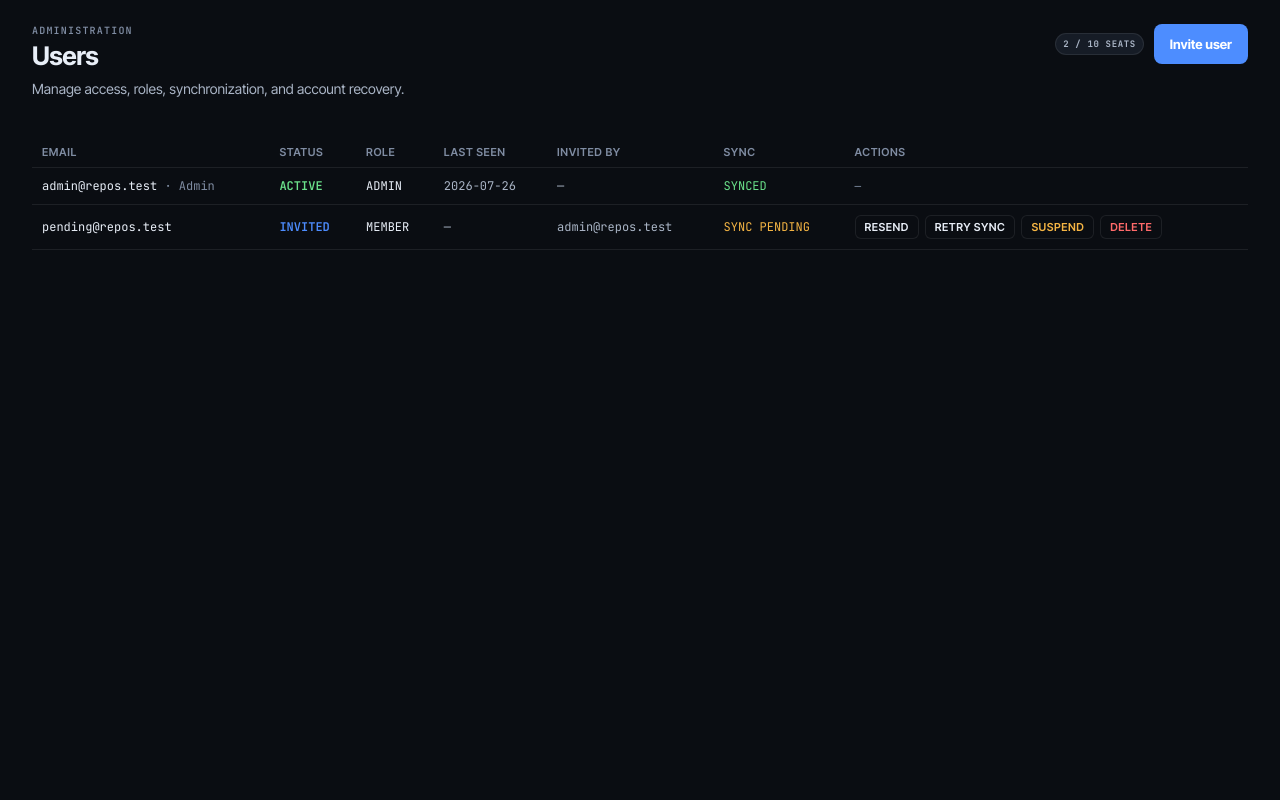
Test case: SettingsUsersPage › clears the invite form between openings
The width and height of the screenshot is (1280, 800).
Step 1. Click the button "Invite user" → (1201, 44), box [1154, 24, 1248, 64]
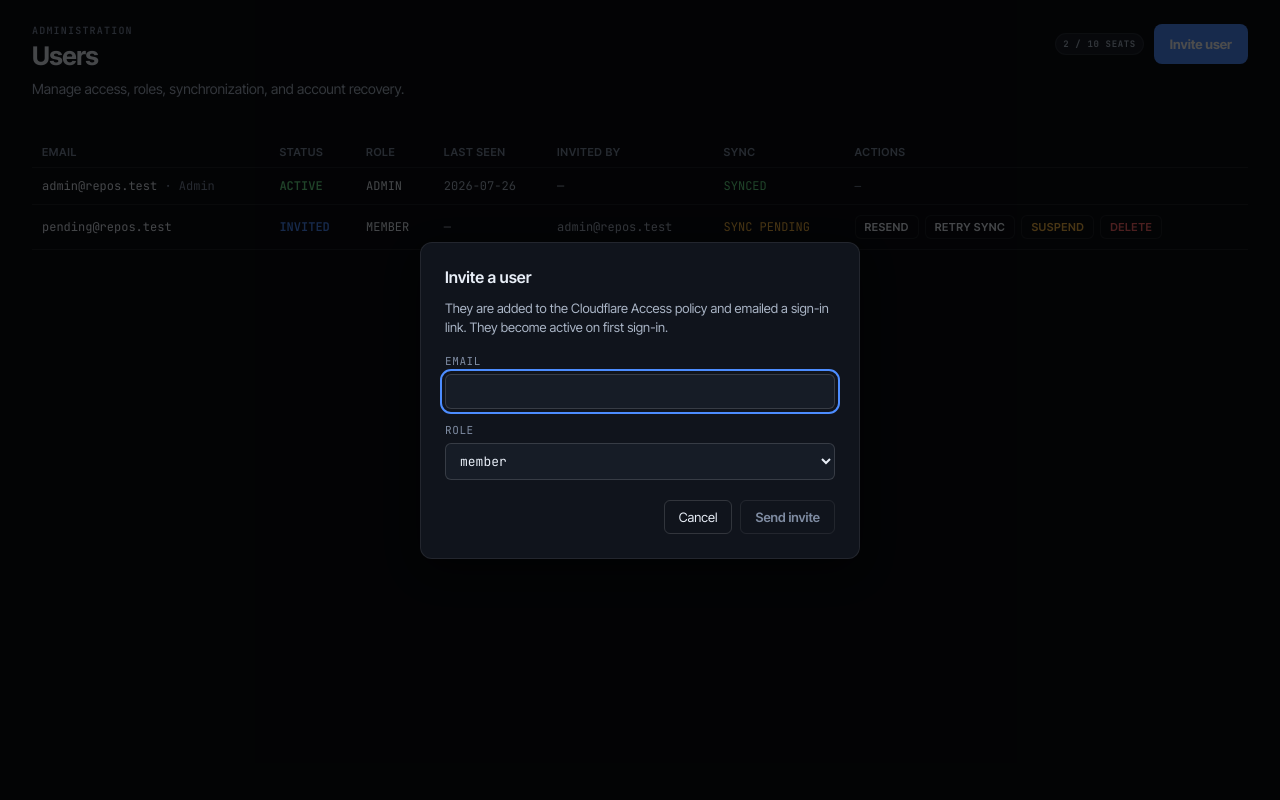
Step 2. Type "first@repos.test" into the field labelled "Email" → (640, 391), box [445, 374, 835, 408]
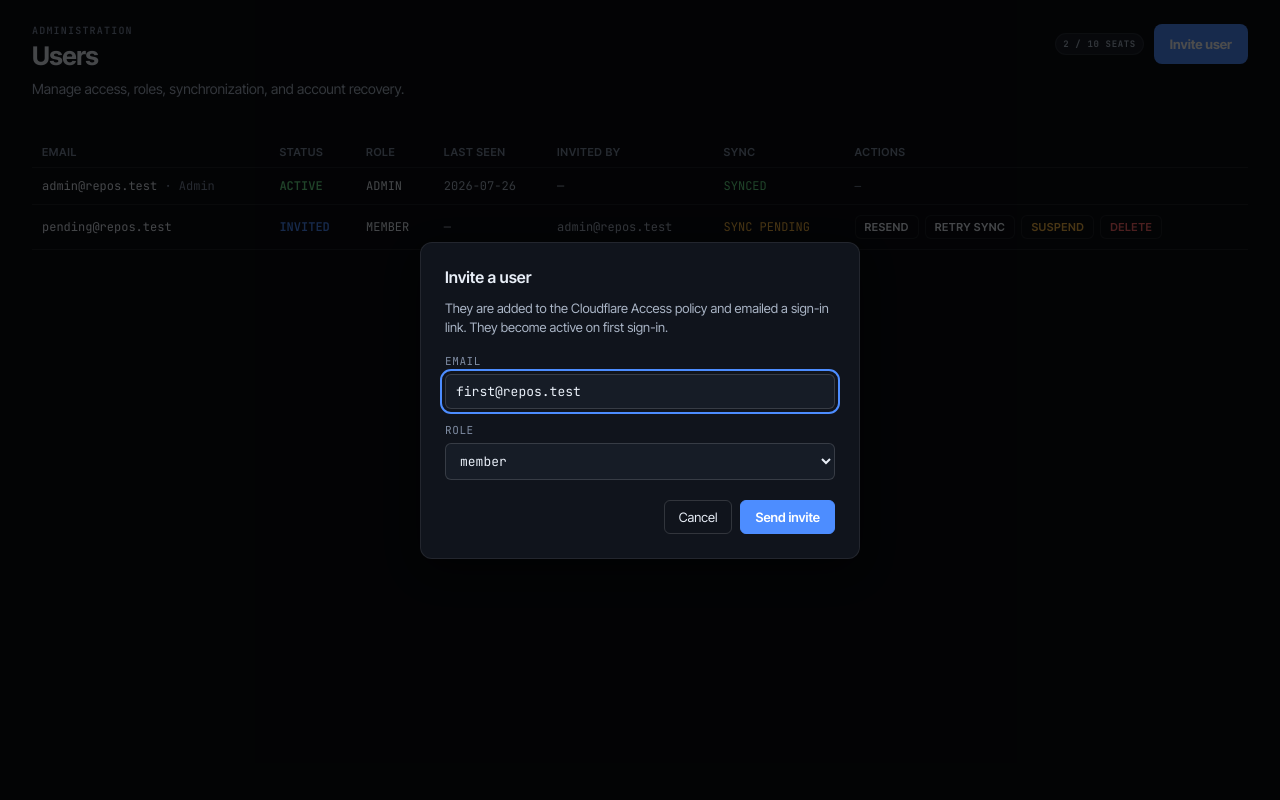
Step 3. Select "admin" in the dropdown labelled "Role" → (640, 461), box [445, 442, 835, 480]
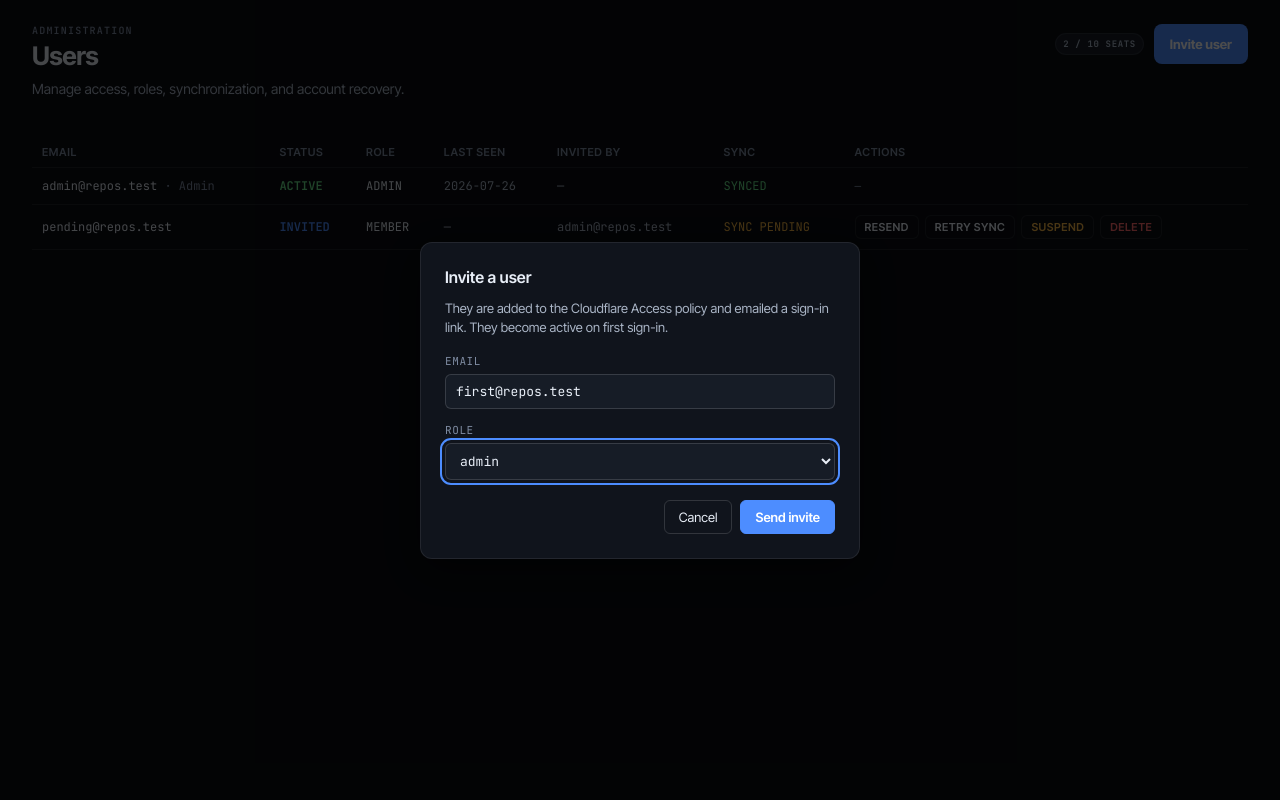
Step 4. Click the button "Send invite" → (788, 516), box [740, 500, 835, 534]
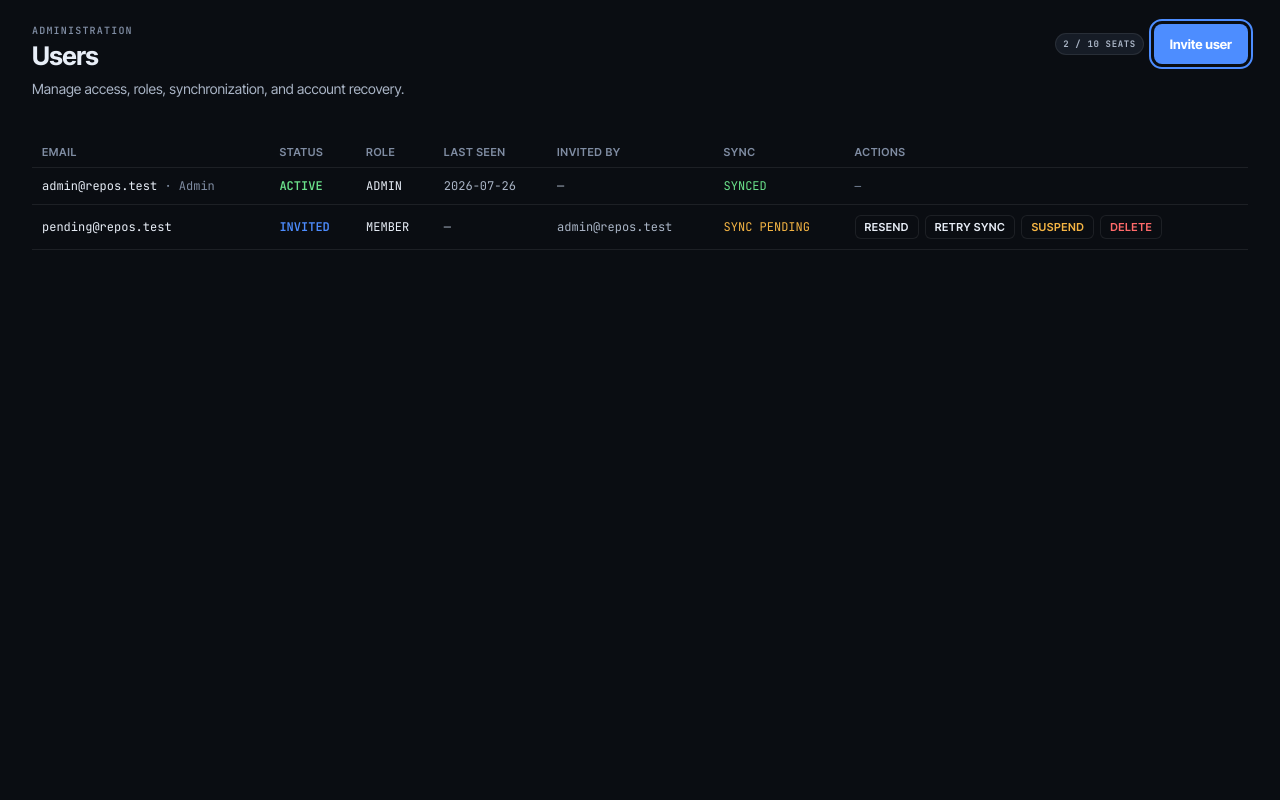
Step 5. Click the button "Invite user" → (1201, 44), box [1154, 24, 1248, 64]
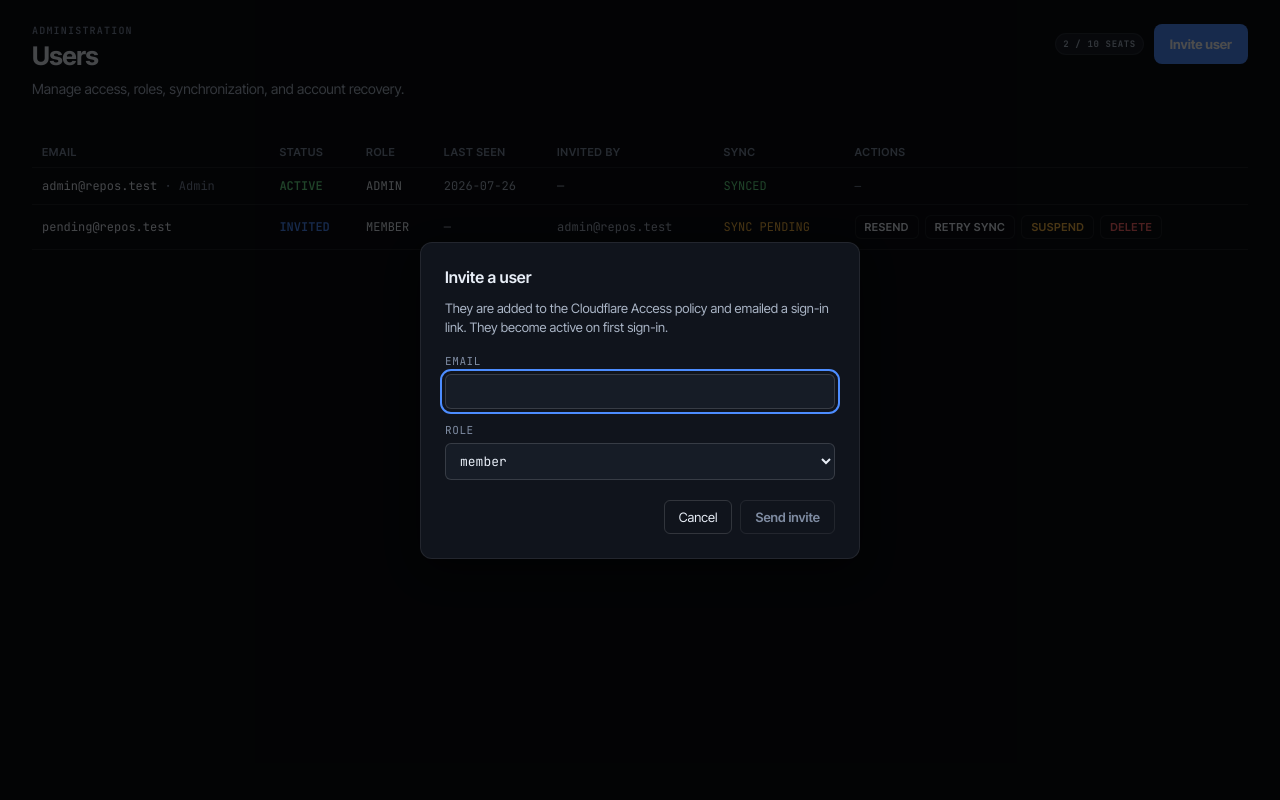
Expected: the field labelled "Email" is empty, [445, 374, 835, 408]
Expected: the dropdown labelled "Role" shows "member", [445, 442, 835, 480]
